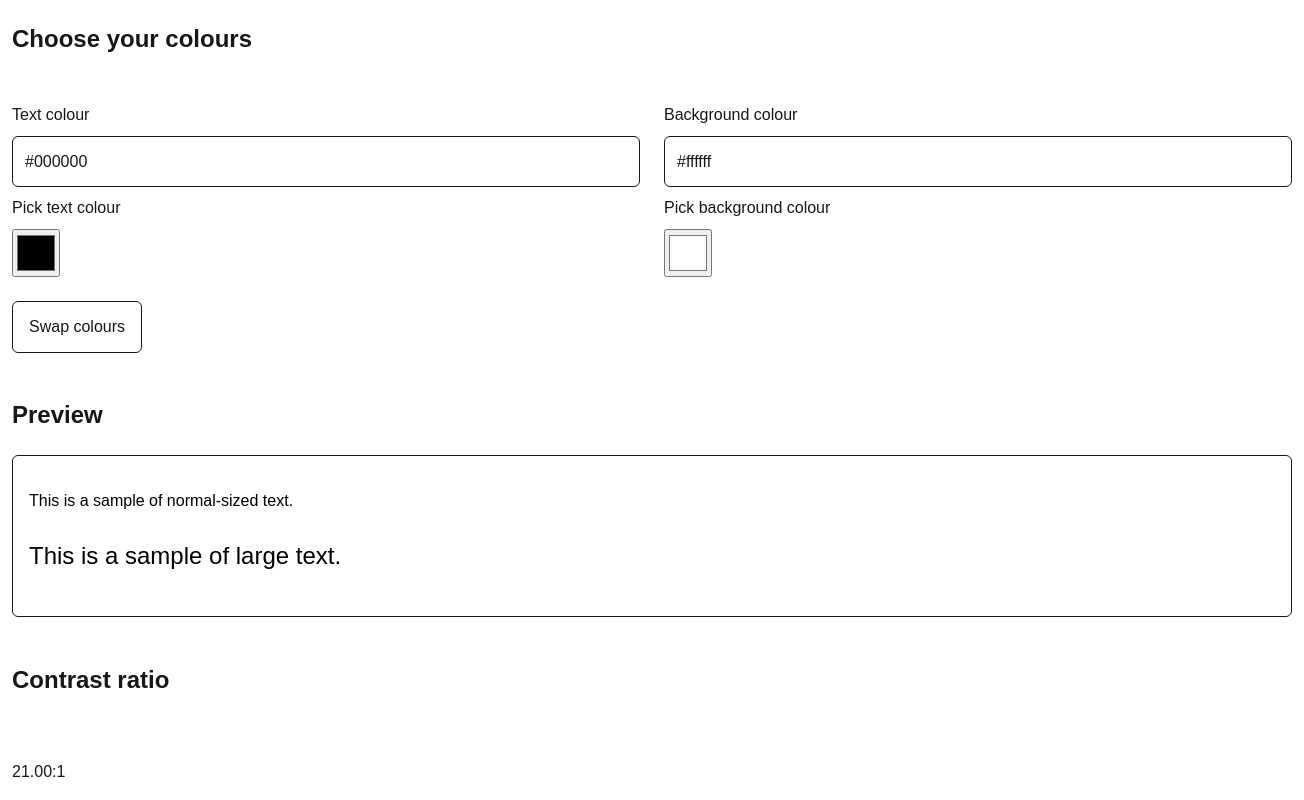
swaps the colours and updates the shareable URL
The width and height of the screenshot is (1304, 800).
Click the button "Swap colours". click: (77, 327)
box: x1=12 y1=301 x2=142 y2=353
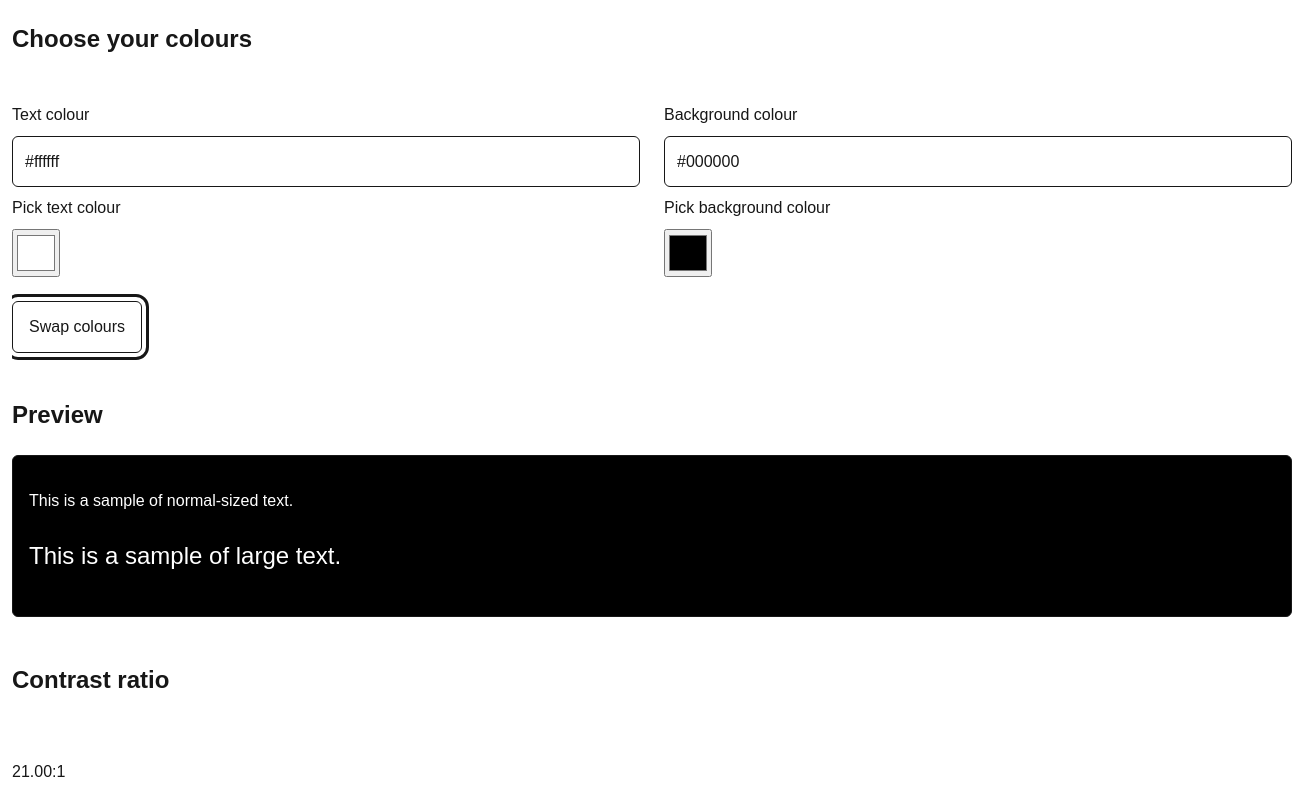
Expected: the text "21.00:1" is shown, x1=12 y1=763 x2=65 y2=780
Expected: the field labelled "Text colour" holds "#ffffff", x1=12 y1=136 x2=640 y2=187
Expected: the field labelled "Background colour" holds "#000000", x1=664 y1=136 x2=1292 y2=187
